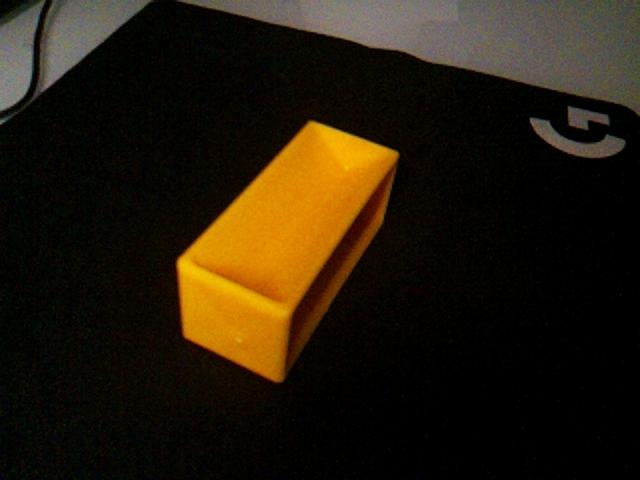yellow: (175, 118, 401, 384)
